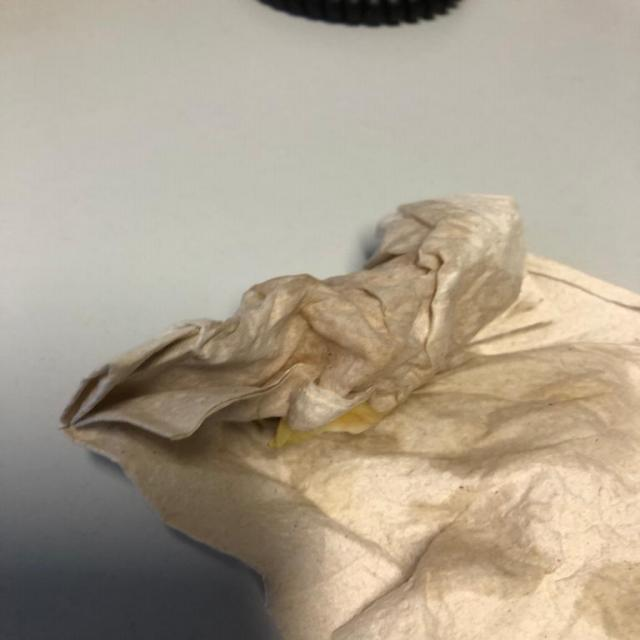kitchen paper: (64, 192, 640, 640)
